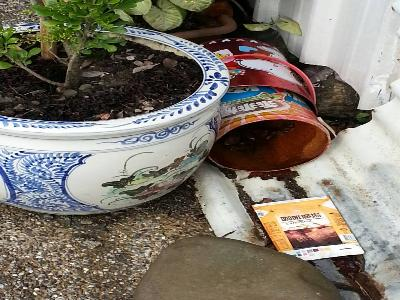bucket: (198, 39, 332, 173)
